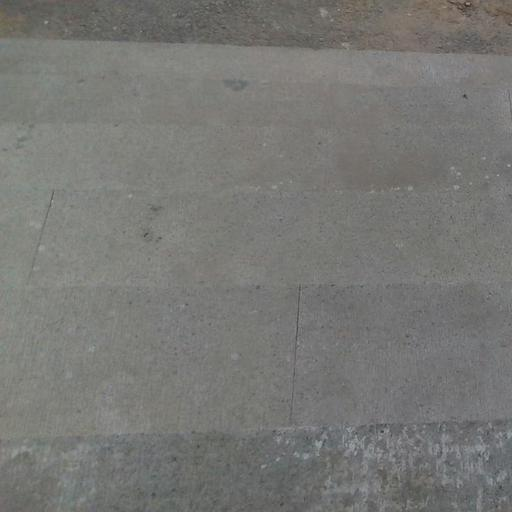stairs: (0, 40, 511, 511)
